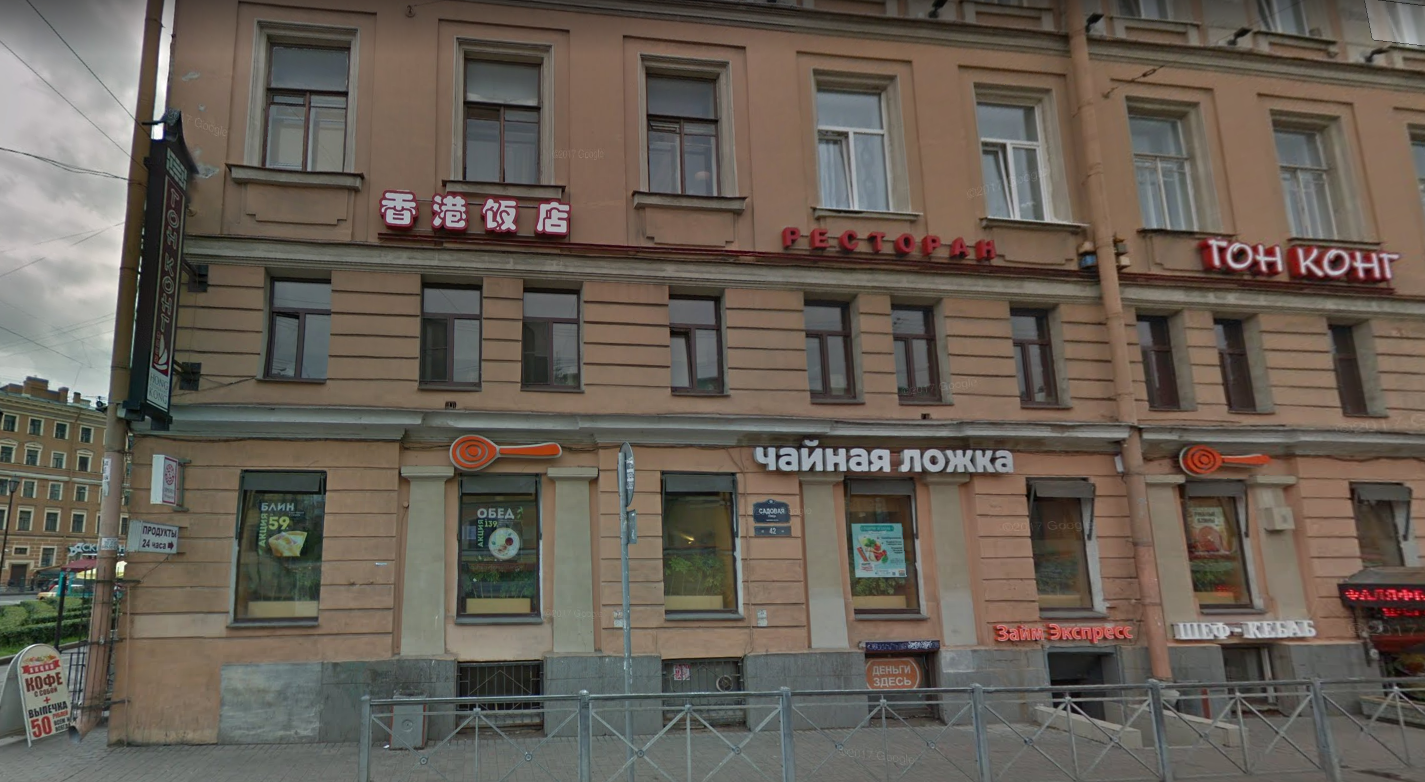cantilever: (127, 102, 214, 442), (143, 450, 203, 517), (119, 512, 190, 568)
signboard: (736, 430, 1020, 488), (371, 180, 578, 247), (1190, 226, 1397, 289), (779, 219, 1007, 262), (442, 423, 566, 470), (1169, 440, 1289, 486), (985, 610, 1138, 643), (1170, 613, 1318, 647)
win_ad: (256, 499, 312, 557), (848, 519, 910, 569), (476, 504, 524, 568)
window: (257, 30, 356, 177), (233, 465, 319, 627), (972, 80, 1064, 222), (456, 467, 539, 621), (814, 75, 901, 216), (454, 45, 539, 189), (640, 56, 725, 199), (663, 465, 739, 616), (843, 472, 917, 622), (1270, 113, 1352, 247), (1128, 102, 1196, 233), (1174, 477, 1240, 611), (420, 271, 489, 394), (259, 268, 331, 384), (1031, 477, 1089, 609), (526, 274, 584, 390), (664, 286, 724, 397), (1006, 306, 1065, 413), (1139, 307, 1189, 417), (885, 305, 940, 404), (1212, 313, 1263, 416), (1327, 316, 1380, 415), (804, 298, 854, 399)
